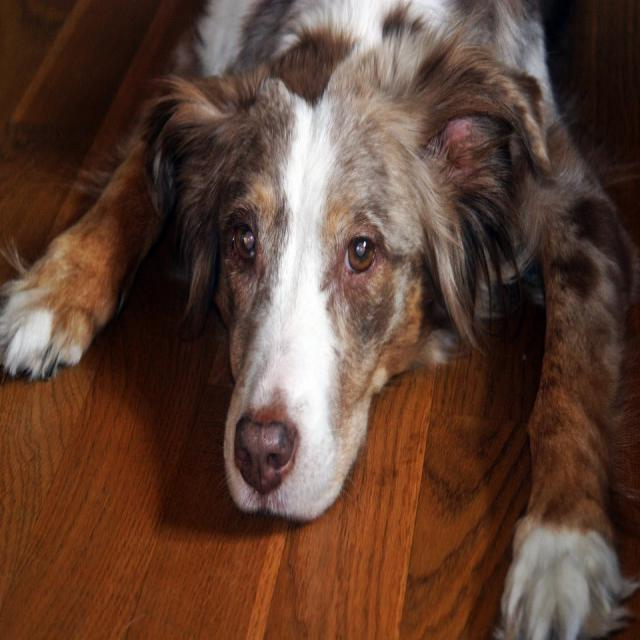eye: (339, 228, 380, 278), (231, 213, 262, 270)
